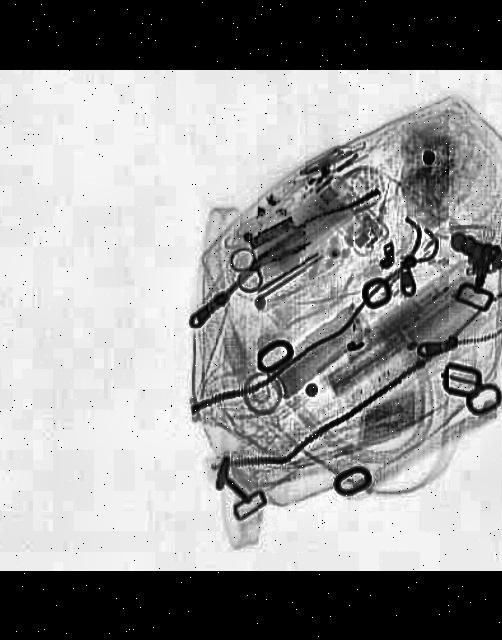Scissors: (220, 226, 320, 296)
